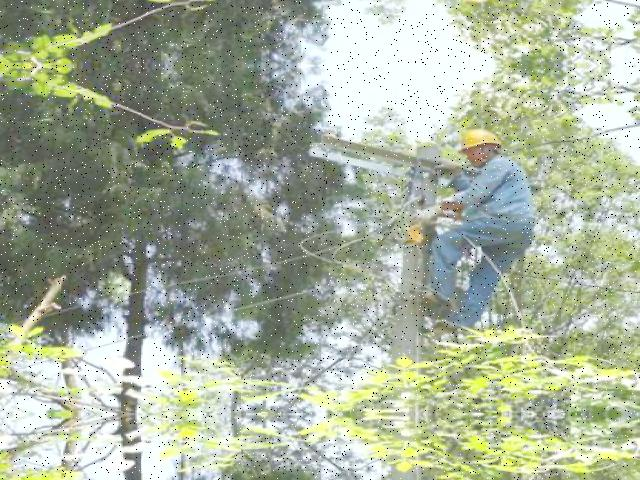Helmet: (451, 124, 504, 156)
